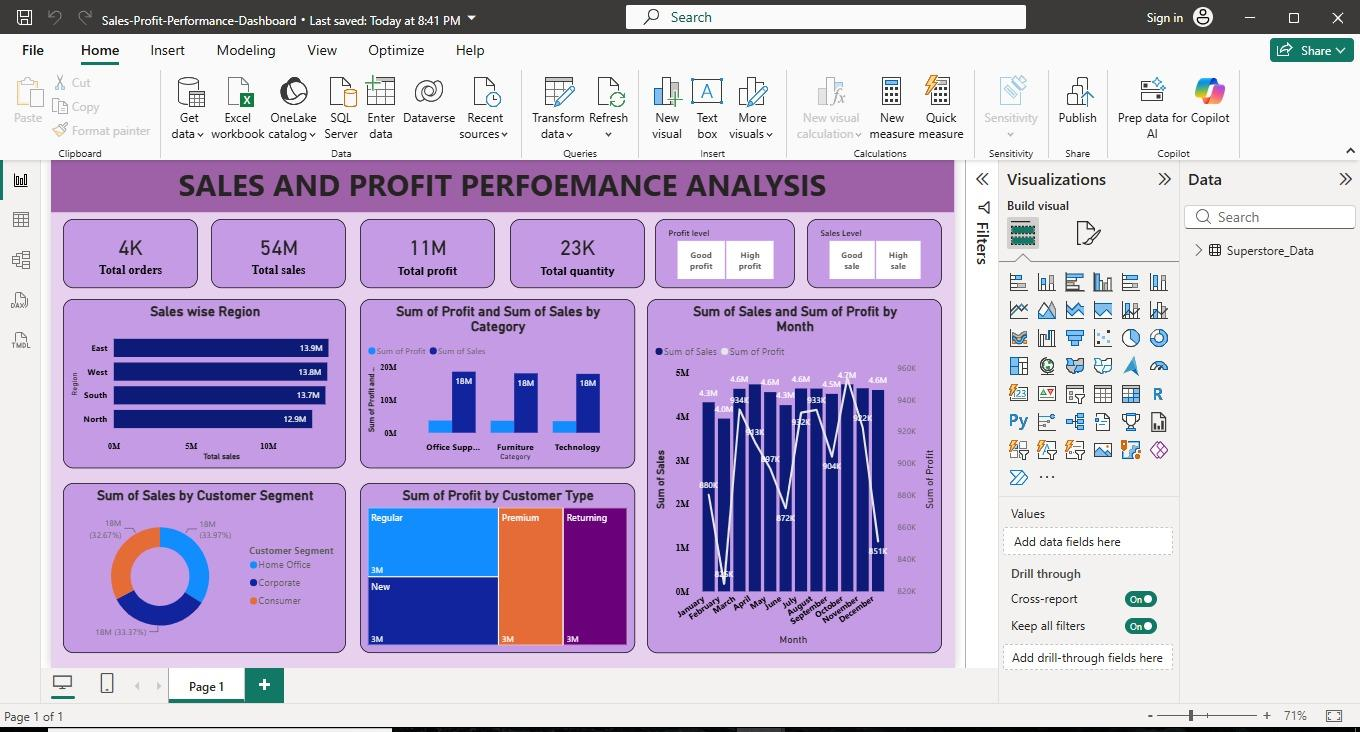

What the dashboard file says about the page in this screenshot:
{"tool":"powerbi","page":{"name":"Page 1","canvas":[1280,720],"ordinal":0},"visuals":[{"type":"textbox","box":[0,0,1279.8,73.7],"z":0},{"type":"card","fields":{"Values":["Superstore_Data.Total sales"]},"box":[226.8,83.6,191.3,97.8],"z":1000},{"type":"card","fields":{"Values":["Superstore_Data.Total profit"]},"box":[438,83.6,191.3,97.8],"z":2000},{"type":"card","fields":{"Values":["Superstore_Data.Total quantity"]},"box":[650.6,83.6,191.3,97.8],"z":3000},{"type":"slicer","fields":{"Values":["Superstore_Data.Sales Level"]},"box":[1071.5,83.6,191.3,97.8],"z":4000},{"type":"slicer","fields":{"Values":["Superstore_Data.Profit level"]},"box":[856.1,83.6,198.4,97.8],"z":5000},{"type":"card","fields":{"Values":["Superstore_Data.Total orders"]},"box":[17,83.6,191.3,97.8],"z":6000},{"type":"barChart","title":"Sales wise Region","fields":{"Y":["Superstore_Data.Total sales"],"Category":["Superstore_Data.Region"]},"box":[17,197,401.1,239.5],"z":7000},{"type":"donutChart","fields":{"Category":["Superstore_Data.Customer Segment"],"Y":["Sum(Superstore_Data.Sales)"]},"box":[17,457.8,401.1,240.9],"z":8000},{"type":"treemap","fields":{"Group":["Superstore_Data.Customer Type"],"Values":["Sum(Superstore_Data.Profit)"]},"box":[438,457.8,389.8,240.9],"z":9000},{"type":"lineStackedColumnComboChart","fields":{"Category":["Superstore_Data.Order Date.Variation.Date Hierarchy.Month"],"Y":["Sum(Superstore_Data.Sales)"],"Y2":["Sum(Superstore_Data.Profit)"]},"box":[844.7,197,418.1,501.7],"z":10000},{"type":"clusteredColumnChart","fields":{"Category":["Superstore_Data.Category"],"Y":["Sum(Superstore_Data.Profit)","Sum(Superstore_Data.Sales)"]},"box":[438,197,389.8,239.5],"z":11000}]}

Visuals, with their boxes on the page's 1280x720 design canvas (x1, y1, x2, y2). These are canvas units, not pixel positions in the 1360x732 screenshot, which may show the page scaled, cropped or inside an application window:
textbox: box=[0, 0, 1280, 74]
card - Superstore_Data.Total sales: box=[227, 84, 418, 181]
card - Superstore_Data.Total profit: box=[438, 84, 629, 181]
card - Superstore_Data.Total quantity: box=[651, 84, 842, 181]
slicer - Superstore_Data.Sales Level: box=[1072, 84, 1263, 181]
slicer - Superstore_Data.Profit level: box=[856, 84, 1054, 181]
card - Superstore_Data.Total orders: box=[17, 84, 208, 181]
"Sales wise Region" barChart: box=[17, 197, 418, 436]
donutChart - Superstore_Data.Customer Segment x Sum(Superstore_Data.Sales): box=[17, 458, 418, 699]
treemap - Superstore_Data.Customer Type x Sum(Superstore_Data.Profit): box=[438, 458, 828, 699]
lineStackedColumnComboChart - Superstore_Data.Order Date.Variation.Date Hierarchy.Month x Sum(Superstore_Data.Sales): box=[845, 197, 1263, 699]
clusteredColumnChart - Superstore_Data.Category x Sum(Superstore_Data.Profit): box=[438, 197, 828, 436]
